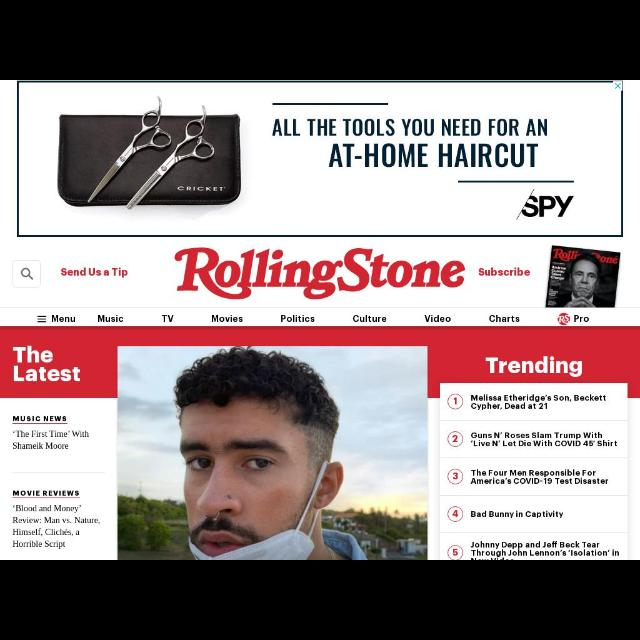button: (14, 260, 41, 288)
icon: (20, 268, 34, 280), (37, 316, 47, 324)
iframe: (16, 81, 624, 237)
image: (117, 346, 427, 560), (174, 247, 466, 300), (546, 246, 620, 308), (448, 394, 464, 410), (447, 432, 463, 448), (447, 469, 463, 485), (448, 507, 464, 523), (448, 544, 464, 558), (558, 312, 570, 326)
panel: (440, 383, 628, 559)
text: (13, 505, 101, 549), (470, 541, 620, 559), (472, 430, 618, 448), (12, 346, 82, 382), (470, 469, 610, 485), (485, 356, 583, 378), (472, 394, 606, 410), (12, 430, 90, 450), (471, 510, 564, 518), (61, 268, 128, 278), (12, 490, 80, 498), (480, 268, 530, 276), (12, 416, 66, 422), (211, 314, 243, 324), (281, 314, 315, 322), (98, 314, 124, 324), (354, 315, 386, 323), (52, 314, 76, 324), (424, 315, 452, 323), (490, 316, 520, 322), (574, 315, 590, 323), (162, 315, 174, 323)
toolbar: (1, 308, 639, 326)
